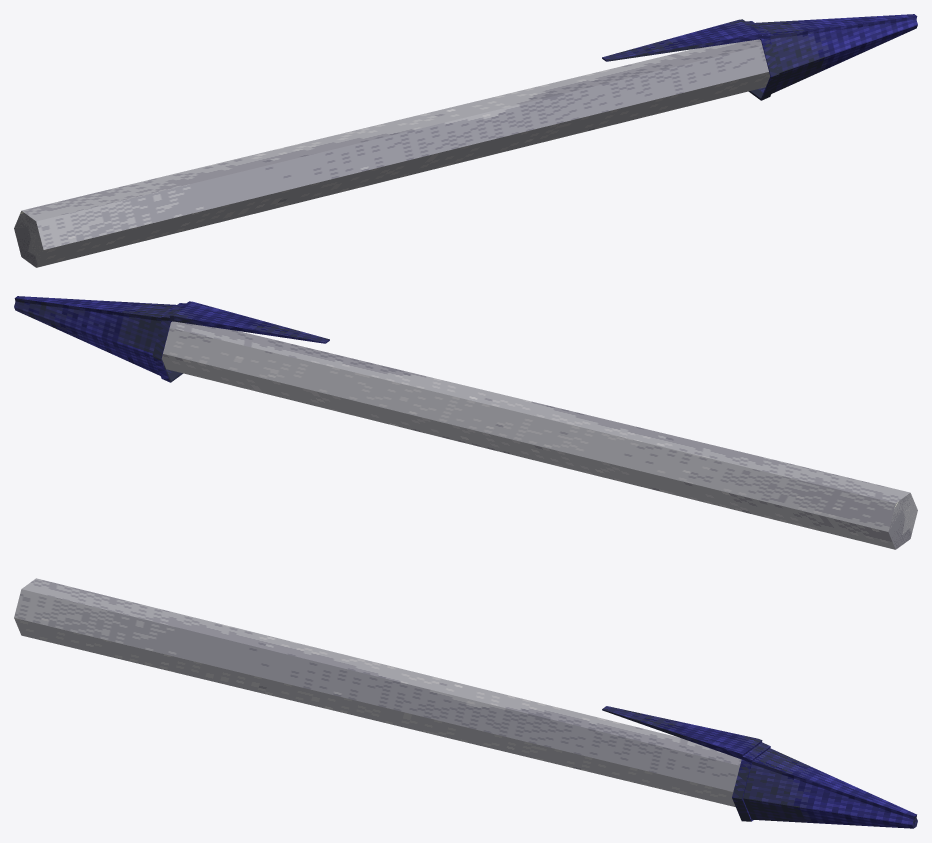
The model's file is Penna_1.fbx.
The picture shows the model from 3 angles, top to bottom: view 1: azimuth 30°, elevation 25°; view 2: azimuth 150°, elevation 25°; view 3: azimuth 330°, elevation 25°; orthographic projection.
Visible parts, largest first — view 1: Cone; view 2: Cone; view 3: Cone.
Boxes of the visible parts, box(x1,y1,x2,y2) form: Cone: box(14, 14, 917, 267); Cone: box(14, 296, 917, 549); Cone: box(14, 578, 917, 828).
Size of the model in its own units: 0.0641 by 0.00488 by 0.00491.
2 materials, 2 textured.
